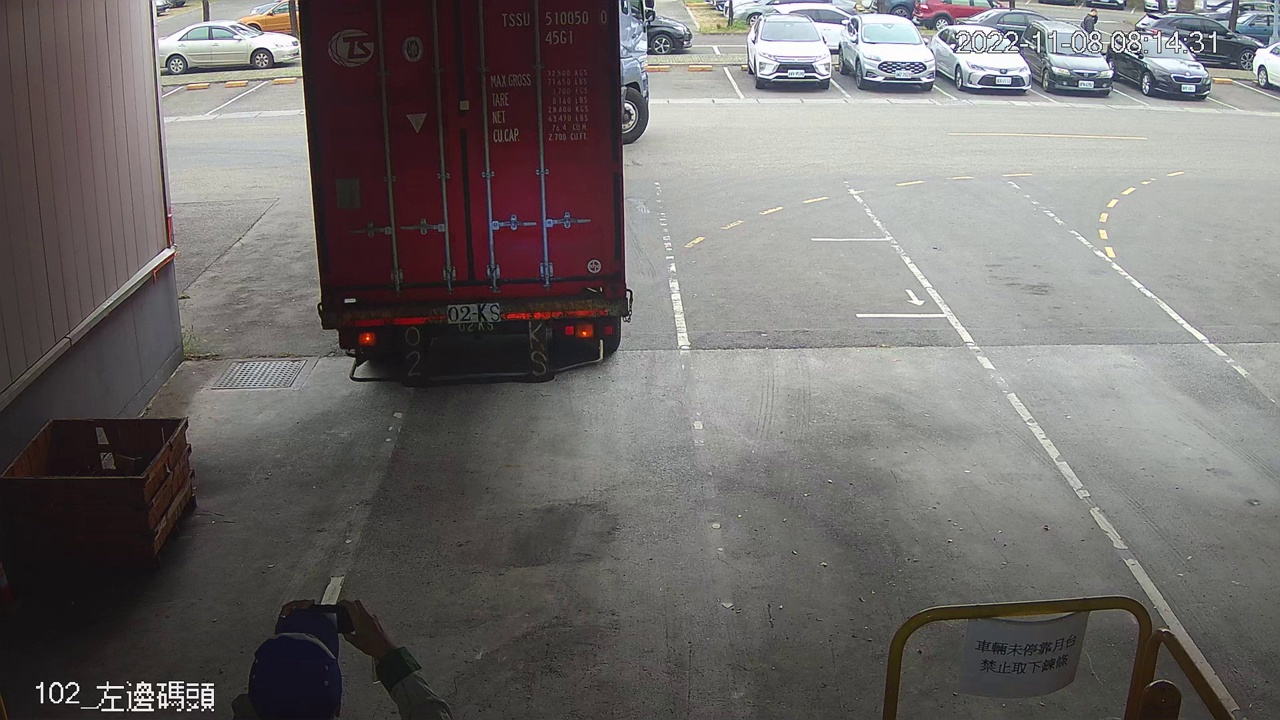container: (493, 3, 611, 54)
